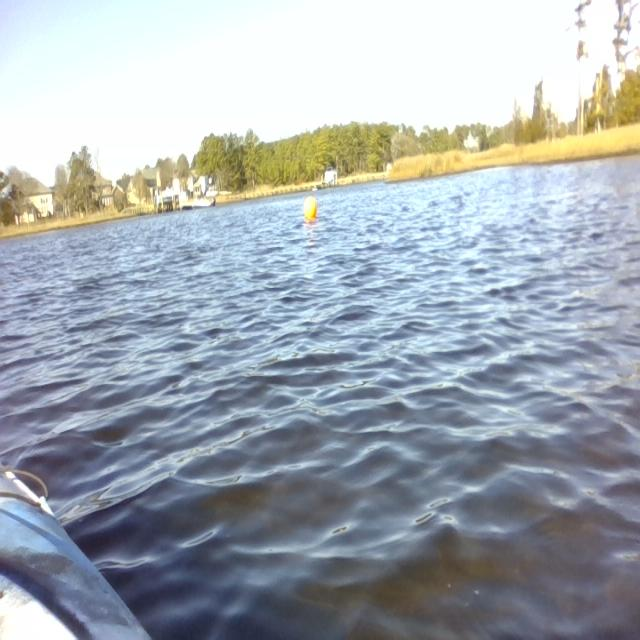Buoy: (300, 192, 323, 225)
